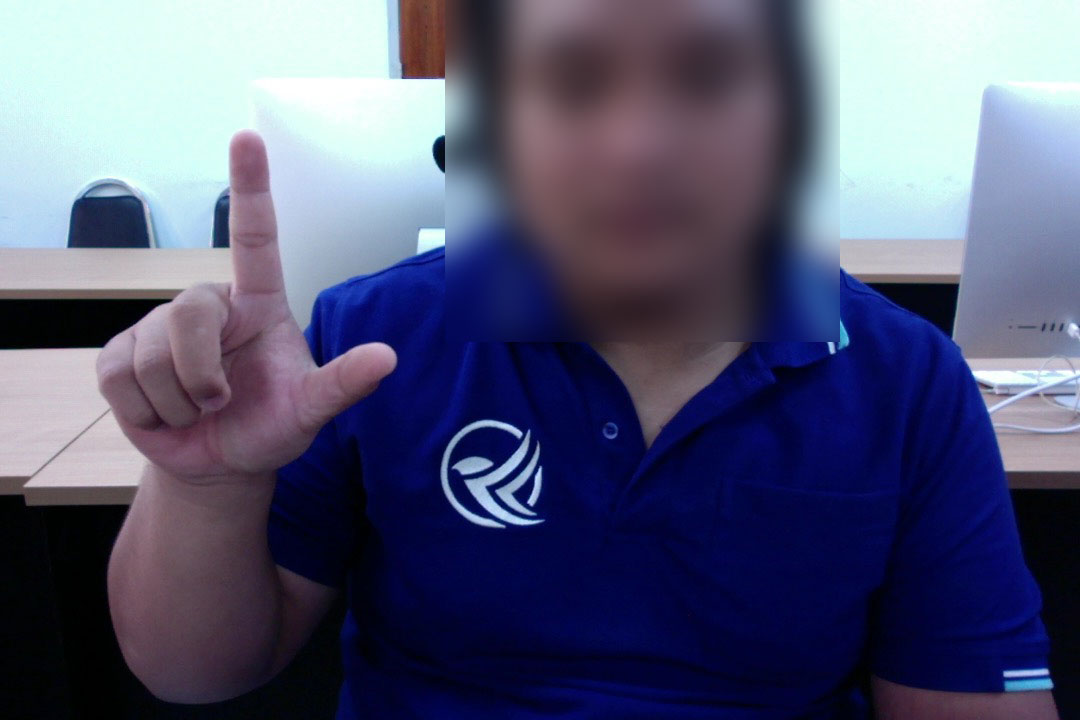lor: (62, 121, 416, 500)
